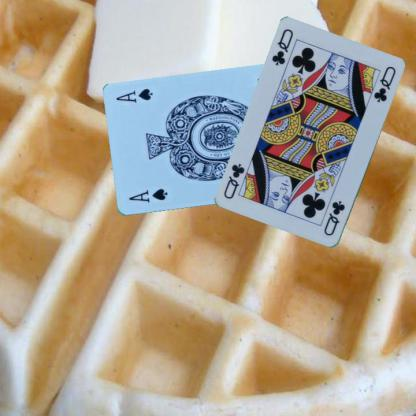As: (126, 186, 169, 205)
Qc: (269, 26, 295, 68), (321, 199, 347, 237)
